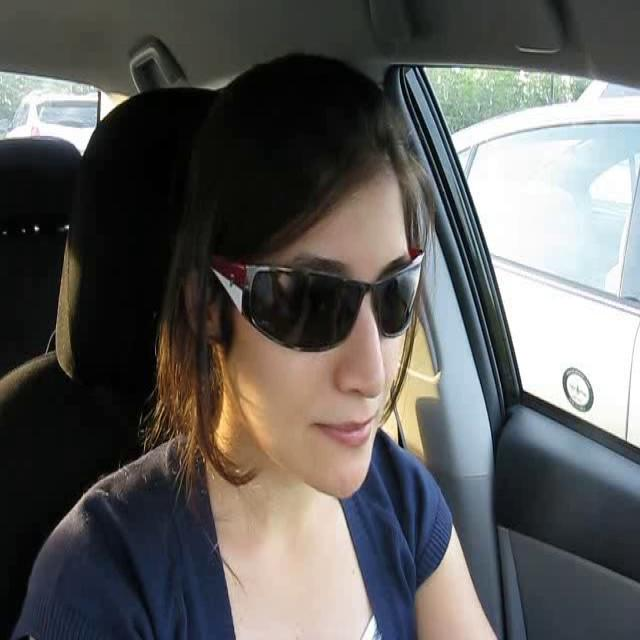close: (313, 409, 378, 452)
